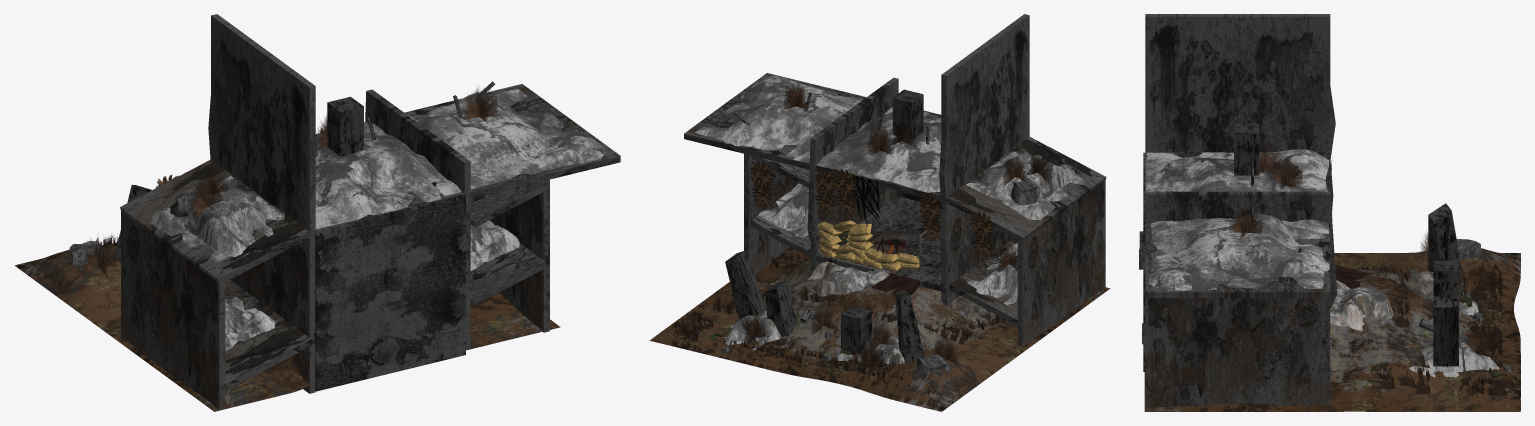
File: mg_nest.glb
3 renders of one model, left to right at view 1: azimuth 30°, elevation 25°; view 2: azimuth 150°, elevation 25°; view 3: azimuth 270°, elevation 25°, orthographic. The views are drawn at different scales.
Visible parts, largest first — view 1: pCube42_blinn15_0, pCube42_blinn16_0, pCube42_blinn20_0, pCube42_blinn18_0, pCube105_Foliage:blinn1_0, pCube99_Foliage:blinn1_0, pCube102_Foliage:blinn1_0, pCube101_Foliage:blinn1_0; view 2: pCube42_blinn15_0, pCube42_blinn20_0, pCube42_blinn16_0, pCube42_blinn18_0, pCube42_blinn17_0, sandbag_wall:pCylinder23_blinn2_0, pCube129_Foliage:blinn2_0, pCube4_Foliage:blinn2_0, pCube131_Foliage:blinn2_0, Foliage:pCube4_Foliage:blinn2_0, pCube130_Foliage:blinn2_0, pCube90_Foliage:blinn2_0 (+17 smaller); view 3: pCube42_blinn15_0, pCube42_blinn20_0, pCube42_blinn16_0, pCube42_blinn18_0, pCube42_blinn17_0, pCube92_Foliage:blinn2_0, pCube90_Foliage:blinn2_0, pCube122_Foliage:blinn2_0, pCube103_Foliage:blinn1_0, pCube96_Foliage:blinn1_0, pCube105_Foliage:blinn1_0, pCube6_Foliage:blinn1_0 (+5 smaller).
Boxes of the visible parts, <box> form: pCube42_blinn15_0: <box>120,14,620,409</box>; pCube42_blinn16_0: <box>150,89,607,350</box>; pCube42_blinn20_0: <box>14,243,560,411</box>; pCube42_blinn18_0: <box>113,96,363,262</box>; pCube105_Foliage:blinn1_0: <box>463,87,497,123</box>; pCube99_Foliage:blinn1_0: <box>82,241,116,276</box>; pCube102_Foliage:blinn1_0: <box>187,182,224,222</box>; pCube101_Foliage:blinn1_0: <box>194,169,228,197</box>; pCube42_blinn15_0: <box>684,14,1106,346</box>; pCube42_blinn20_0: <box>649,247,1110,411</box>; pCube42_blinn16_0: <box>695,75,1087,305</box>; pCube42_blinn18_0: <box>725,89,924,363</box>; pCube42_blinn17_0: <box>722,261,904,364</box>; sandbag_wall:pCylinder23_blinn2_0: <box>817,220,919,271</box>; pCube129_Foliage:blinn2_0: <box>749,161,775,211</box>; pCube4_Foliage:blinn2_0: <box>833,169,859,219</box>; pCube131_Foliage:blinn2_0: <box>970,211,996,262</box>; Foliage:pCube4_Foliage:blinn2_0: <box>815,168,839,218</box>; pCube130_Foliage:blinn2_0: <box>918,193,944,244</box>; pCube90_Foliage:blinn2_0: <box>830,347,913,381</box>; pCube42_blinn15_0: <box>1139,14,1336,406</box>; pCube42_blinn20_0: <box>1144,248,1520,411</box>; pCube42_blinn16_0: <box>1145,149,1329,290</box>; pCube42_blinn18_0: <box>1234,123,1461,366</box>; pCube42_blinn17_0: <box>1330,271,1499,377</box>; pCube92_Foliage:blinn2_0: <box>1378,344,1430,394</box>; pCube90_Foliage:blinn2_0: <box>1459,261,1502,311</box>; pCube122_Foliage:blinn2_0: <box>1459,374,1514,398</box>; pCube103_Foliage:blinn1_0: <box>1269,156,1302,189</box>; pCube96_Foliage:blinn1_0: <box>1461,263,1498,294</box>; pCube105_Foliage:blinn1_0: <box>1229,206,1262,238</box>; pCube6_Foliage:blinn1_0: <box>1463,326,1498,359</box>.
Size of the model in its own units: 7 by 5.04 by 6.05.
19 materials, 19 textured.
